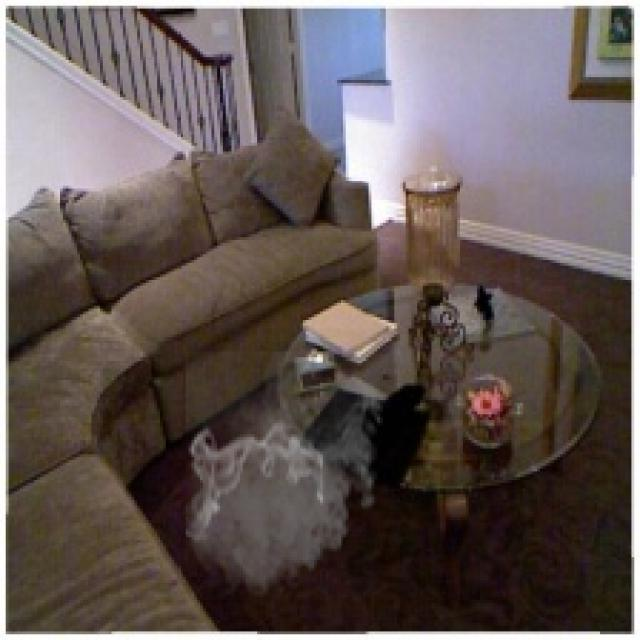smoke: (183, 352, 388, 608)
